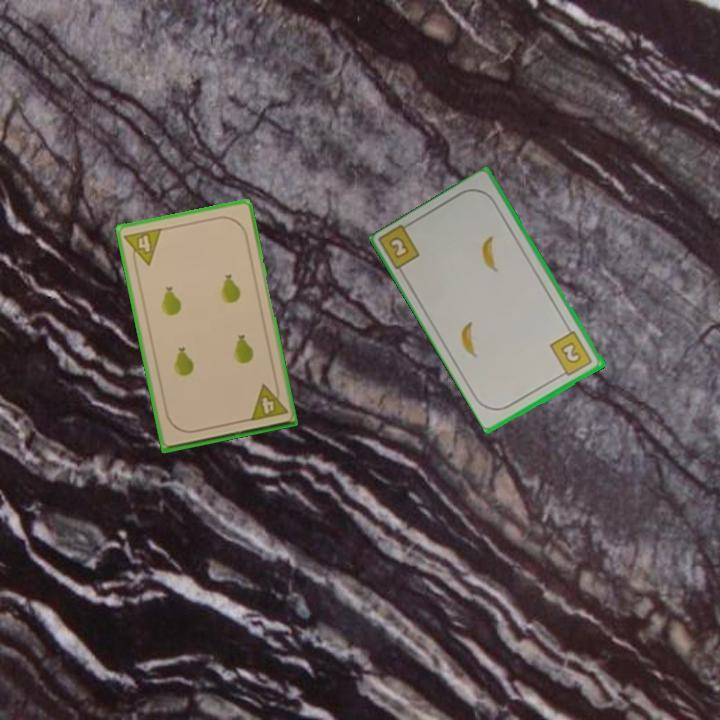2b: (547, 328, 596, 380), (385, 233, 412, 262)
4p: (121, 224, 165, 271), (246, 379, 290, 424)
